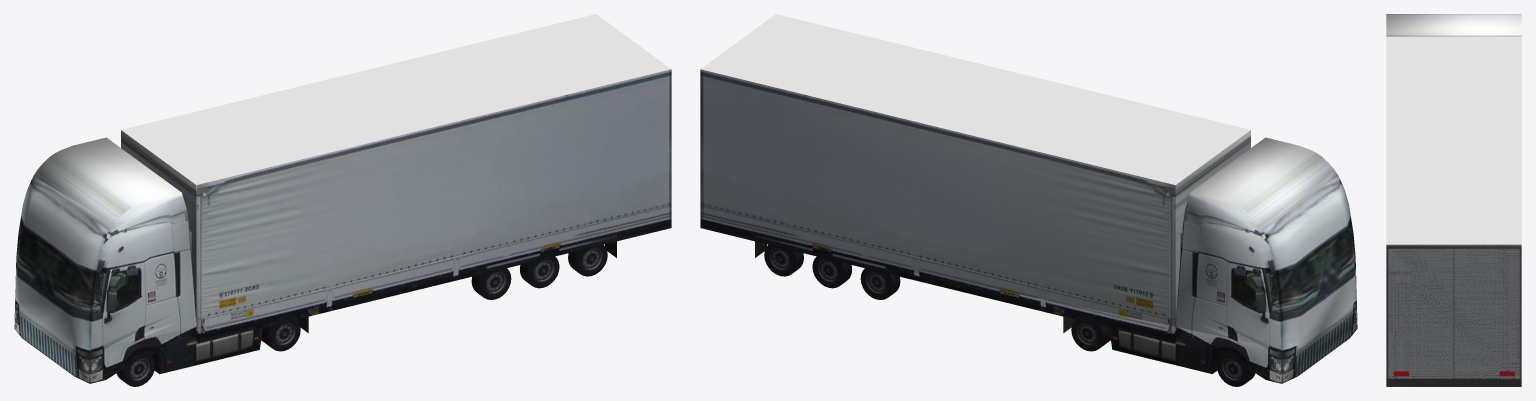
3 renders of one model, left to right at view 1: azimuth 30°, elevation 25°; view 2: azimuth 150°, elevation 25°; view 3: azimuth 270°, elevation 25°, orthographic. The views are drawn at different scales.
Visible parts, largest first — view 1: vrachtwagen (×4), wiel (×3), wiel_1 (×2); view 2: vrachtwagen (×4), wiel (×3), wiel_1 (×2); view 3: vrachtwagen (×2).
Boxes of the visible parts, <box> form: vrachtwagen (×4): <box>14,14,671,383</box>; wiel (×3): <box>471,244,607,299</box>; wiel_1 (×2): <box>116,319,300,386</box>; vrachtwagen (×4): <box>700,14,1357,383</box>; wiel (×3): <box>764,244,893,299</box>; wiel_1 (×2): <box>1071,319,1249,386</box>; vrachtwagen (×2): <box>1386,14,1521,386</box>.
Size of the model in its own units: 568 by 126 by 175.
6 materials, 4 textured.
